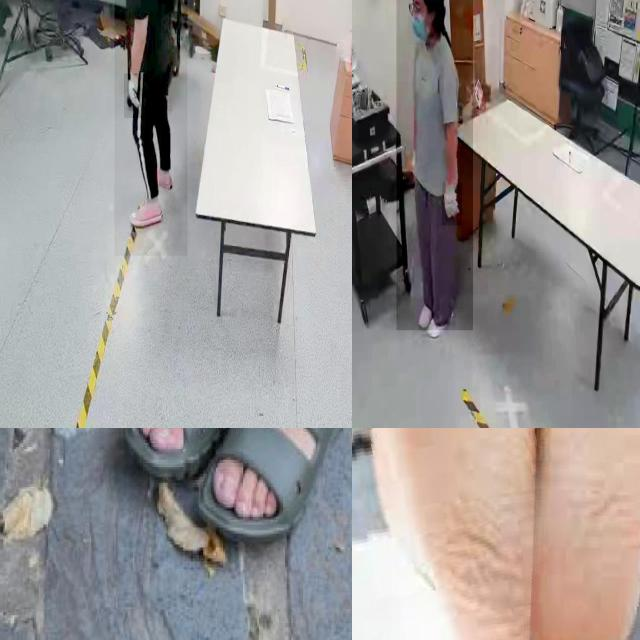Barefoots: (352, 428, 613, 640), (440, 428, 640, 640)
Sandals: (197, 428, 352, 543), (113, 428, 255, 485)
face_mask: (407, 0, 433, 45)
glasses: (405, 0, 424, 23)
hand_glove: (124, 73, 144, 119), (442, 183, 462, 226)
person: (396, 0, 473, 331), (114, 0, 187, 256)
shoes: (128, 192, 166, 240), (417, 304, 446, 341), (149, 153, 175, 191)
